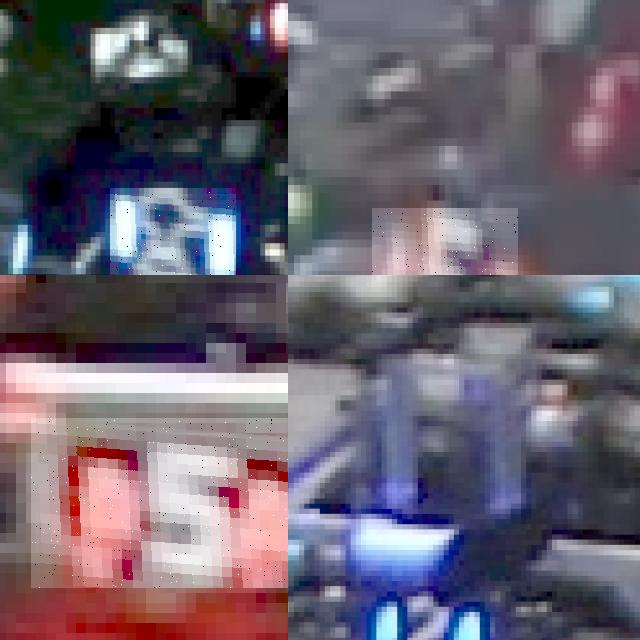B2: (353, 576, 477, 640)
Bs: (110, 187, 236, 275)
R5: (31, 418, 288, 588), (372, 208, 517, 275)
